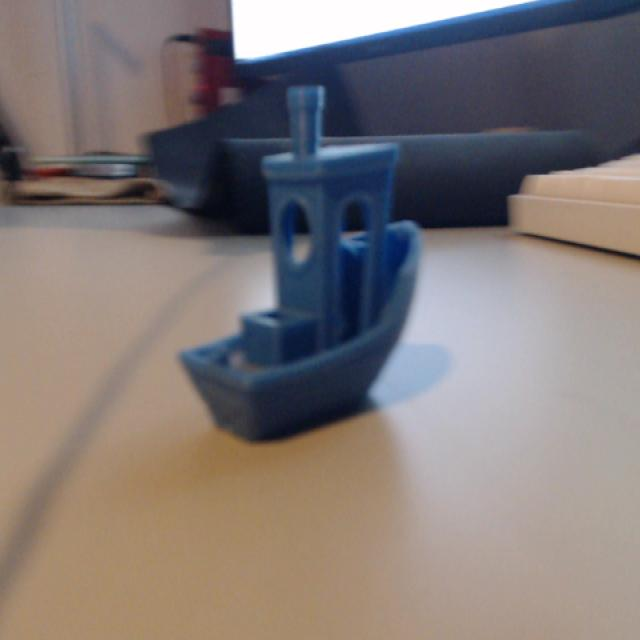benchy: (176, 80, 424, 441)
